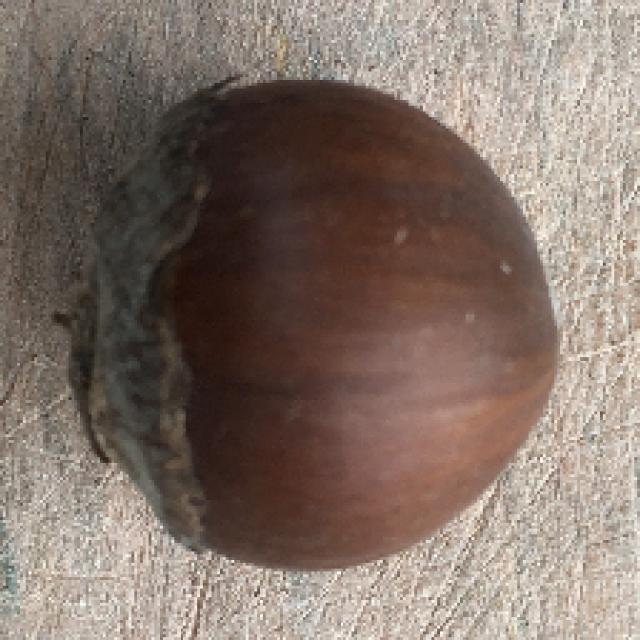damagedHazelnut: (81, 63, 560, 567)
